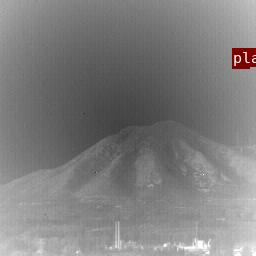plane: (232, 48, 249, 68)
